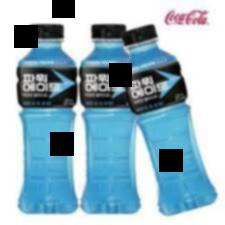powerade_mountainblast: (15, 20, 83, 216)
